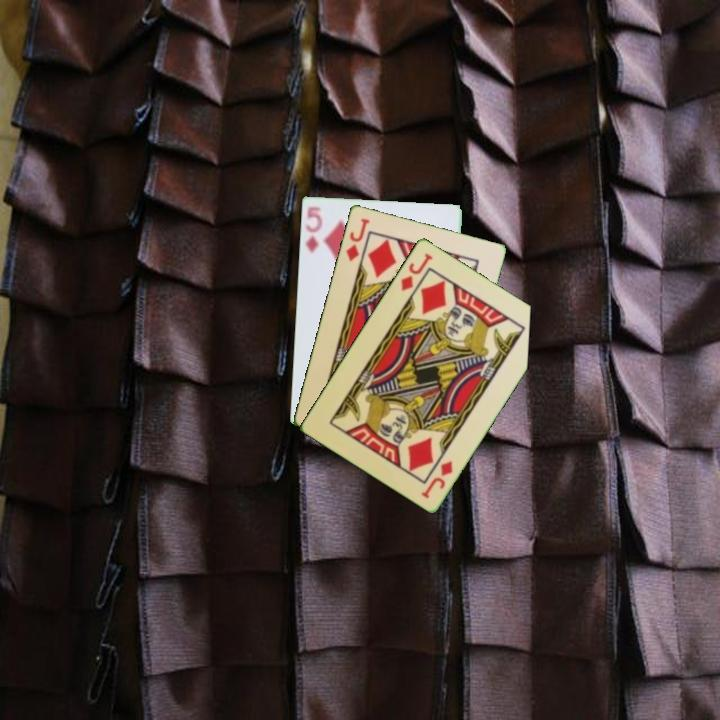5d: (302, 202, 325, 255)
Jd: (397, 249, 436, 293), (418, 457, 455, 501), (342, 214, 372, 264)
